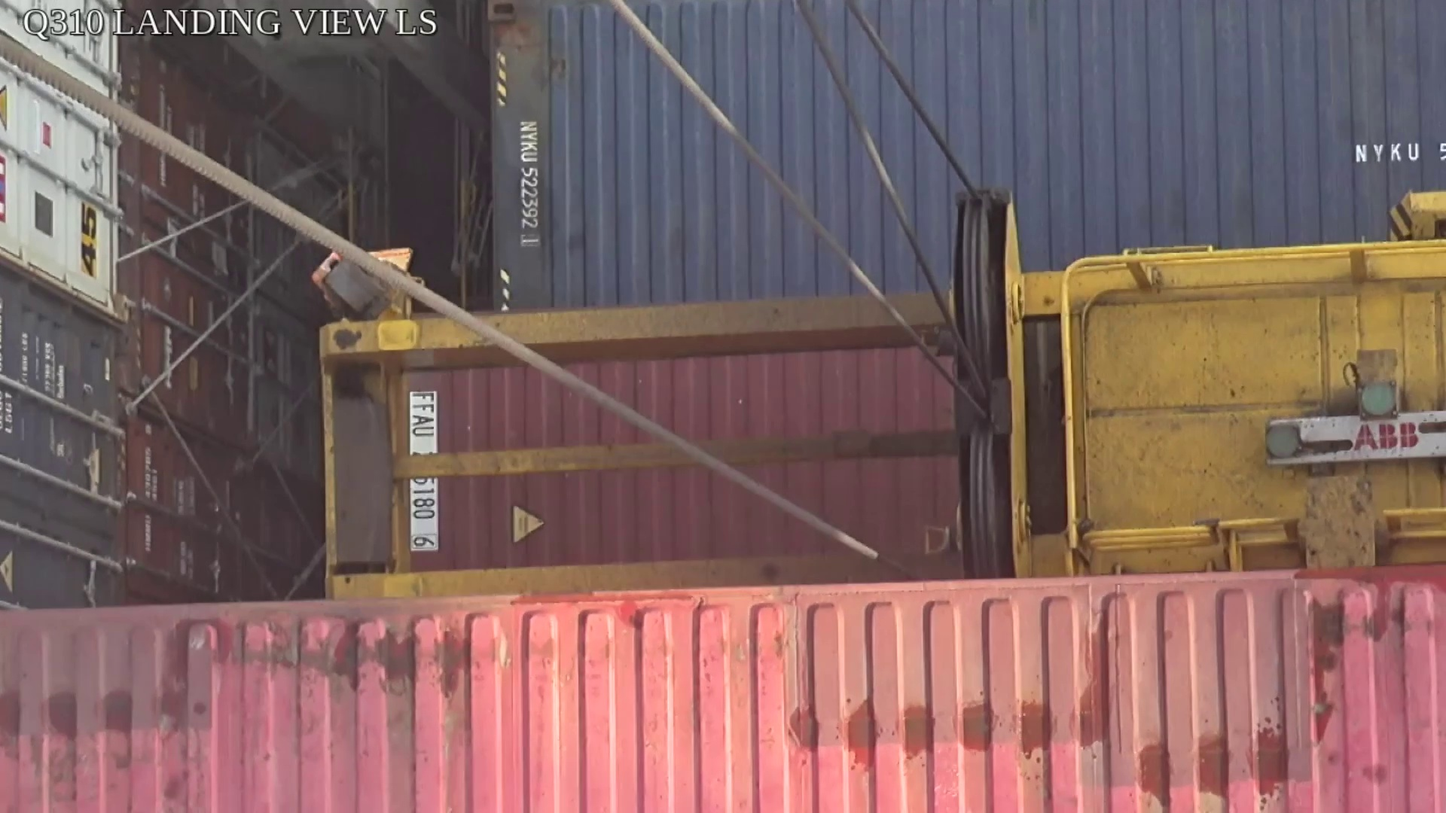aa: (947, 190, 1032, 586)
